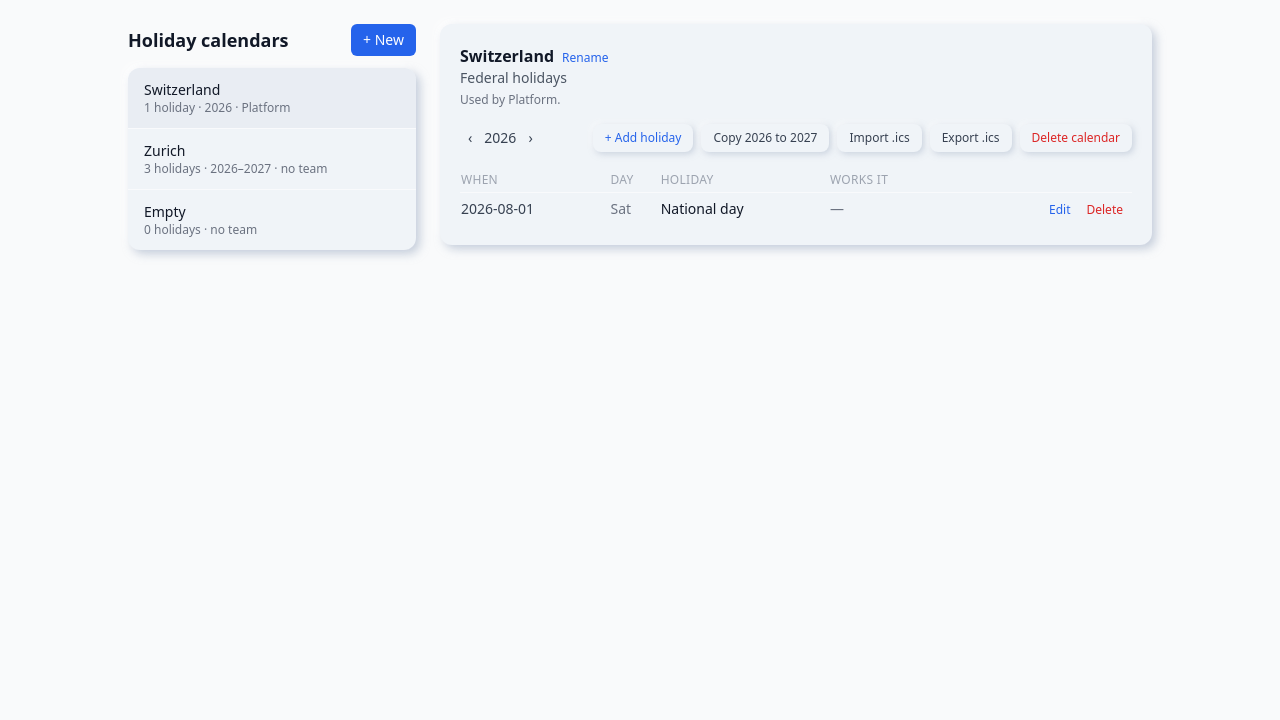
it: CalendarsPage — editing a calendar › opens the copy, import and edit dialogs for this calendar
Click the button "Copy 2026 to 2027". click: click(766, 138)
box: [702, 124, 830, 152]
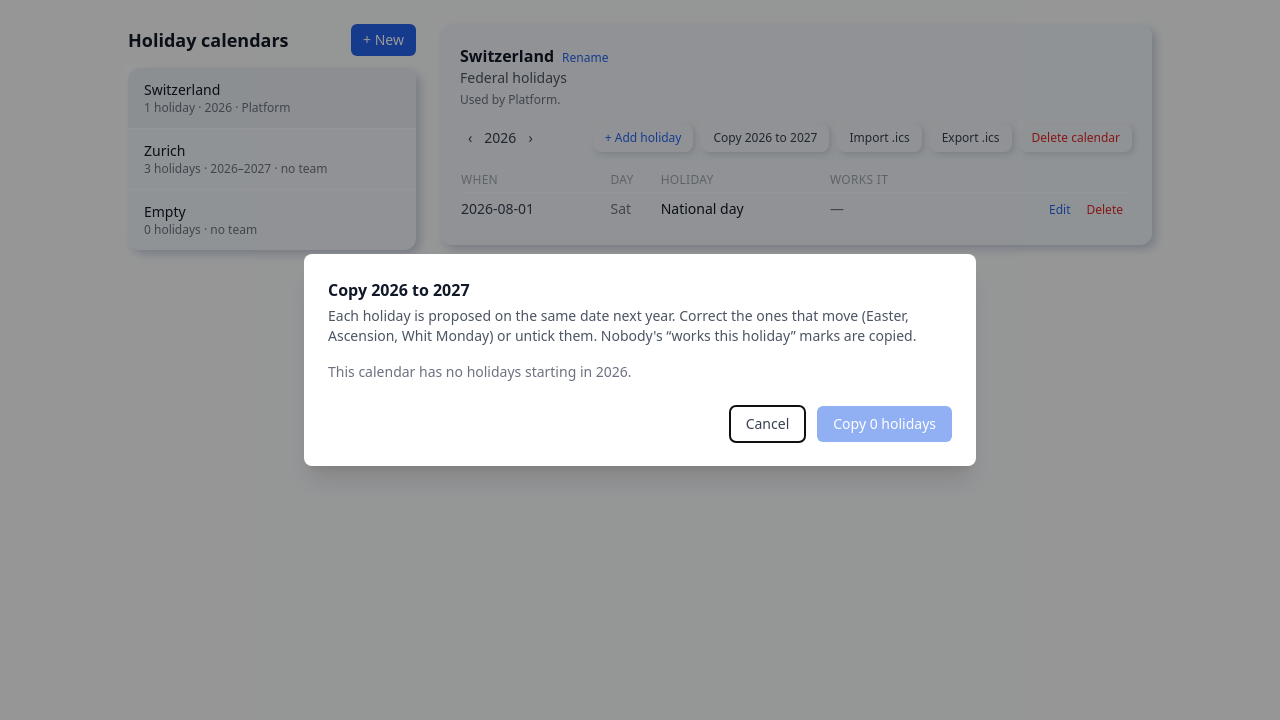
Now the dialog "Copy 2026 to 2027" is shown, box [304, 254, 976, 466]
Now the text "This calendar has no holidays starting in 2026." is shown, box [328, 362, 632, 381]
Click the button "Cancel". click: click(768, 424)
box: [730, 406, 805, 442]
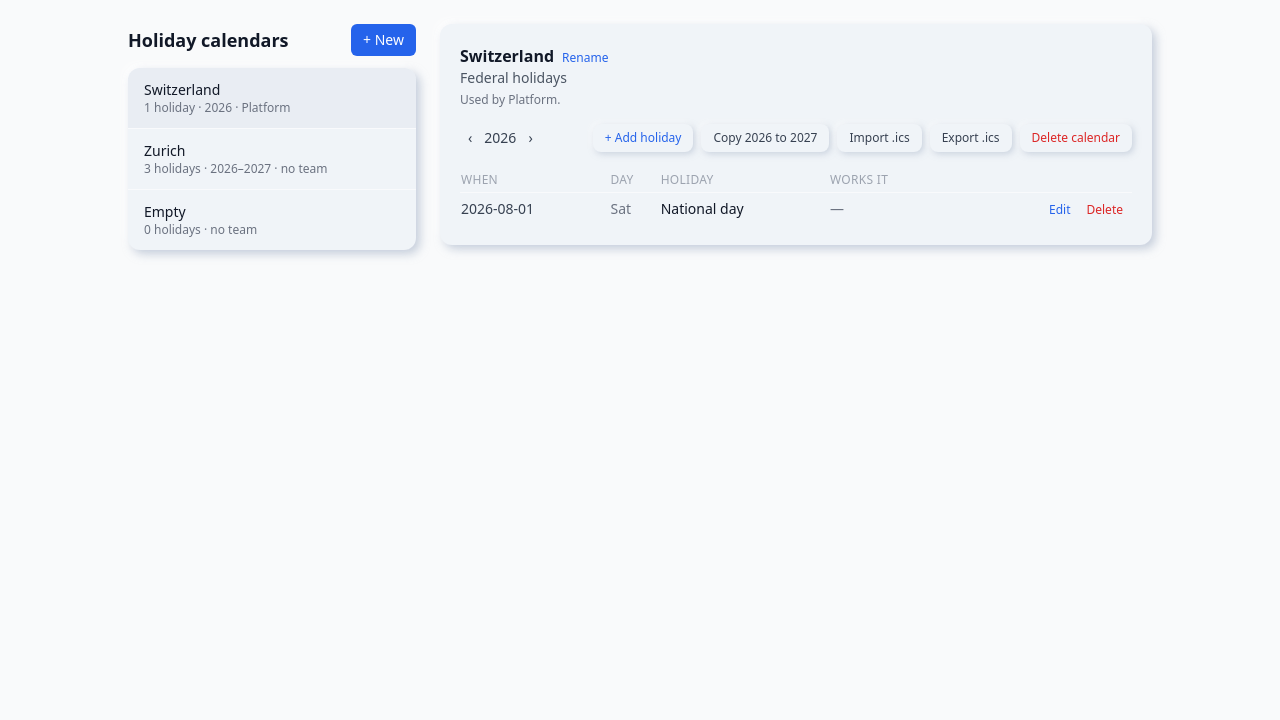
Now the dialog is gone
Click the button "Import .ics". click: click(880, 138)
box: [838, 124, 922, 152]
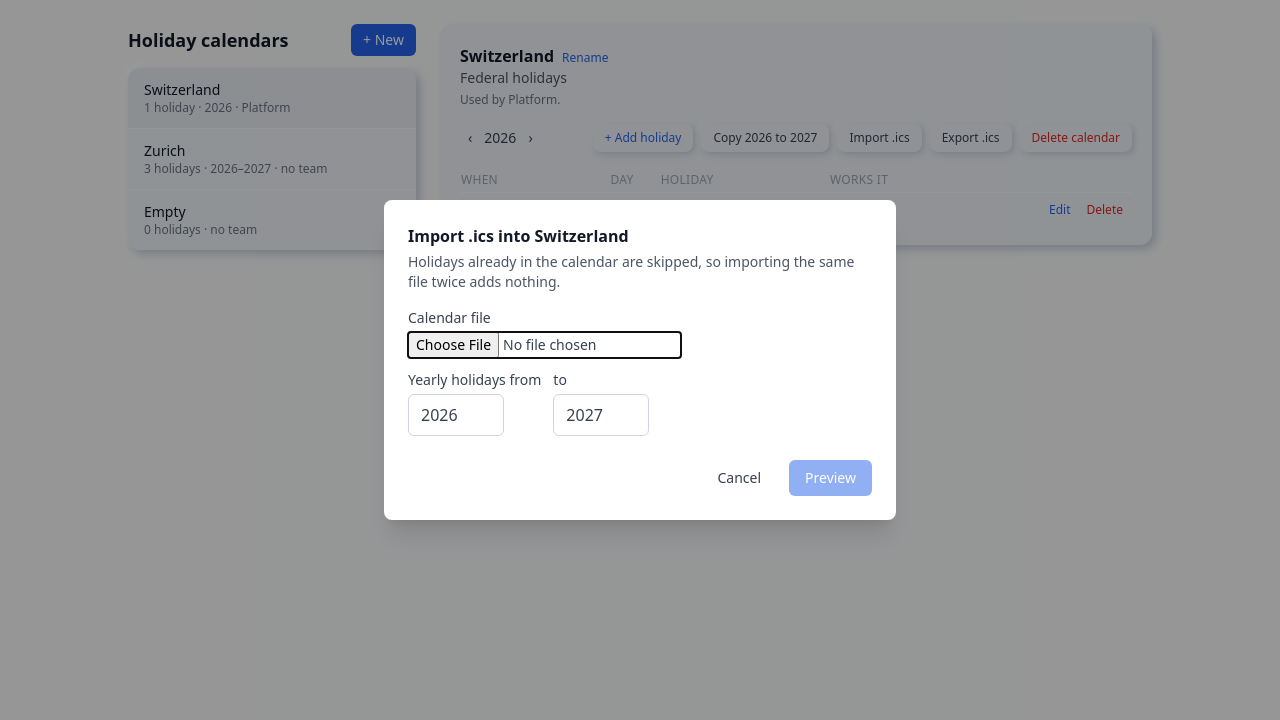
Now the dialog "Import .ics into Switzerland" is shown, box [384, 200, 896, 520]
Click the button "Cancel". click: click(739, 478)
box: [702, 460, 777, 496]
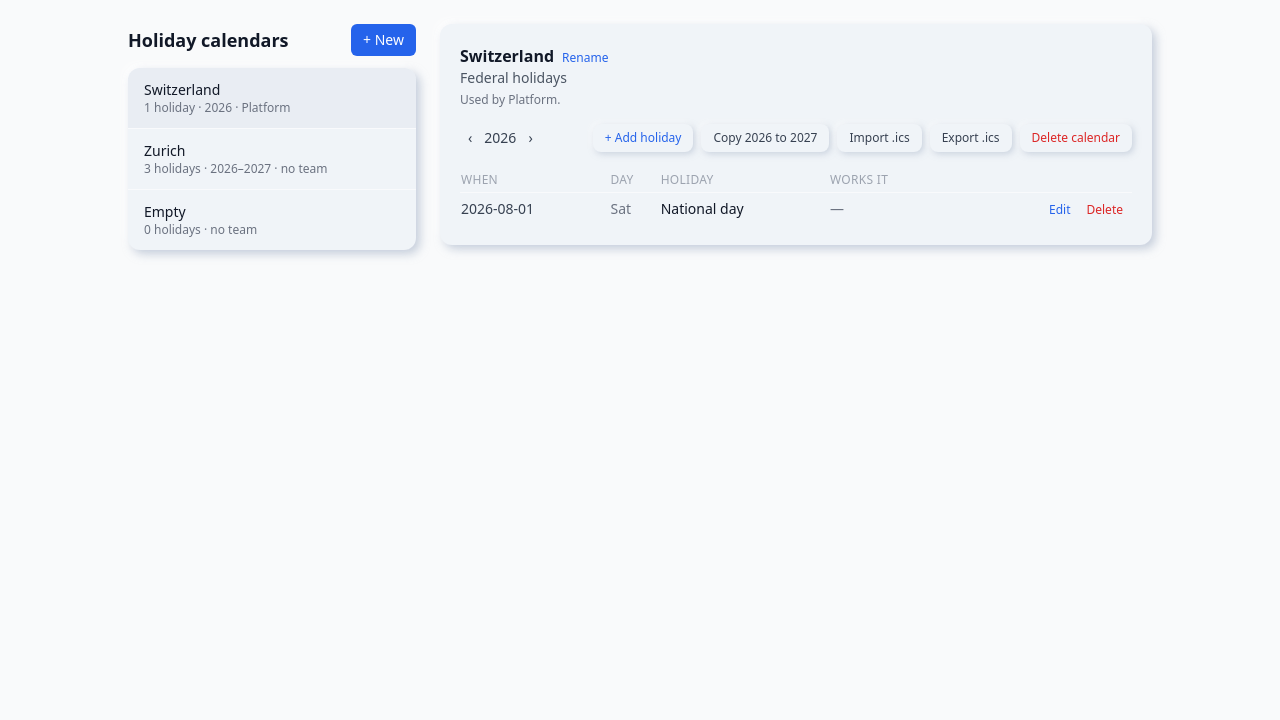
Now the dialog is gone
Click the button with aria-label "Edit National day". click: click(1060, 210)
box: [1041, 202, 1078, 218]
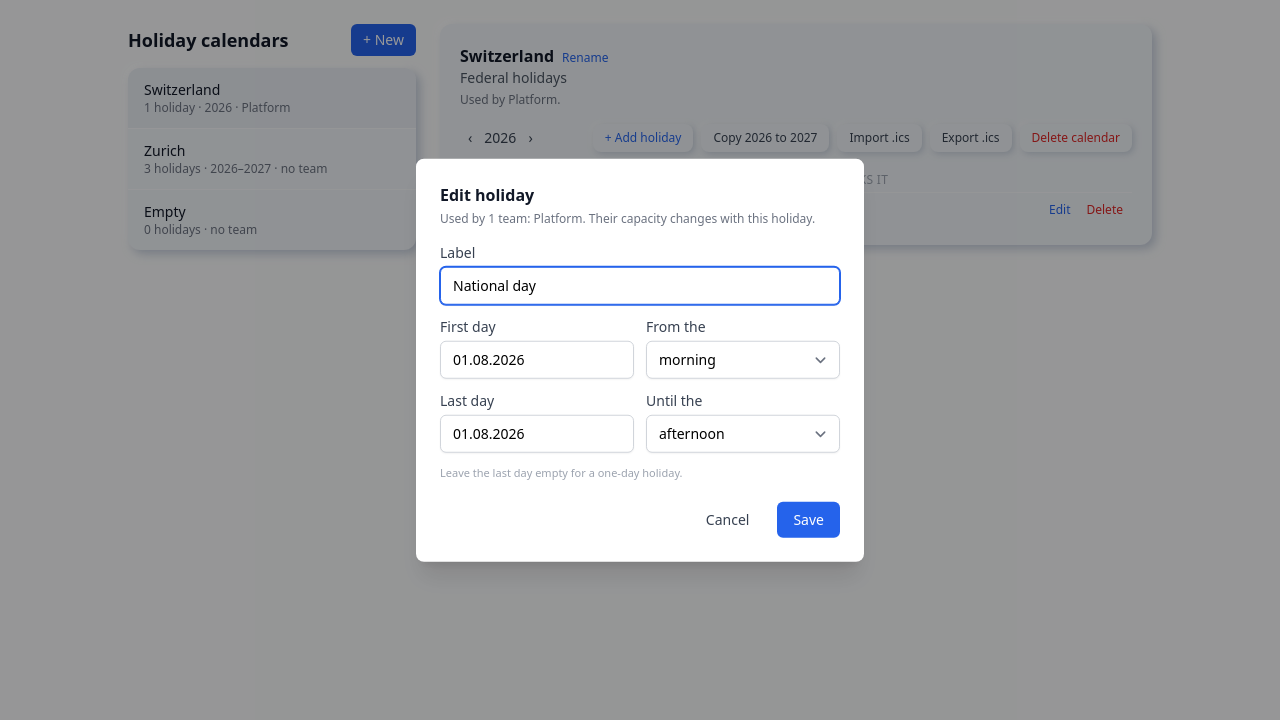
Now the field labelled "Label" holds "National day", box [440, 267, 840, 305]
Click the button "Cancel". click: click(728, 519)
box: [690, 501, 765, 537]
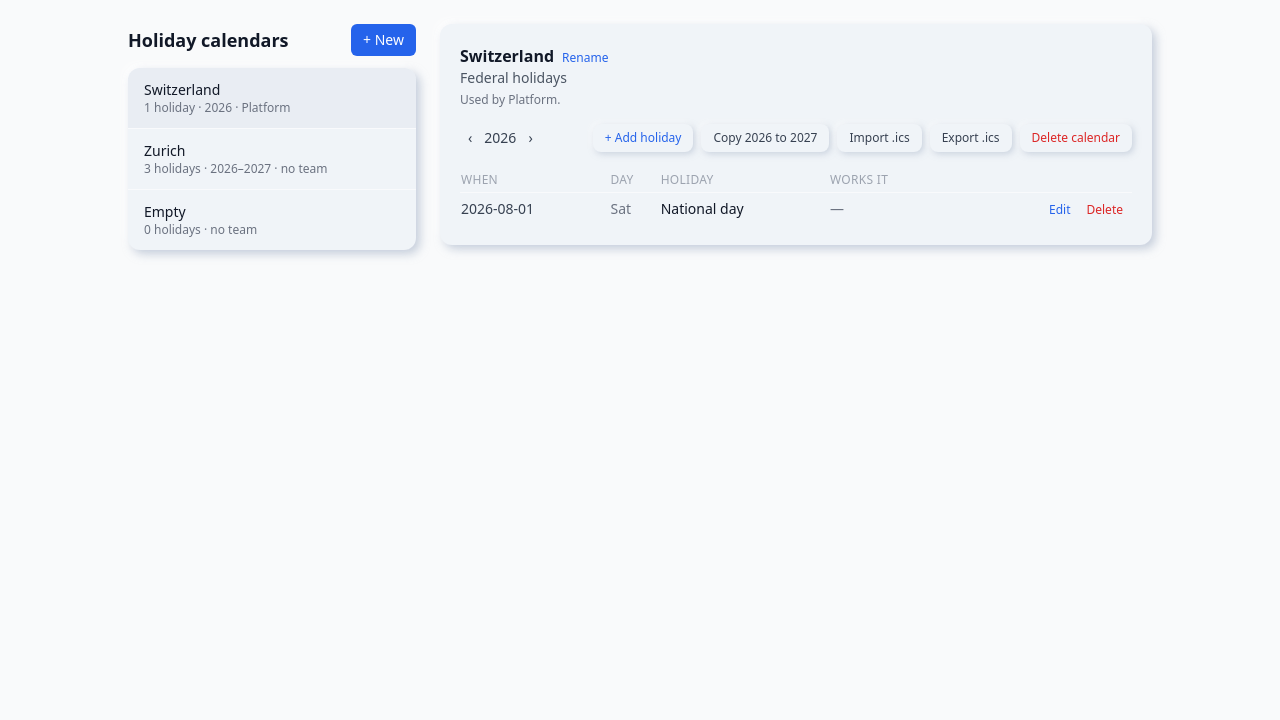
Now the dialog is gone
